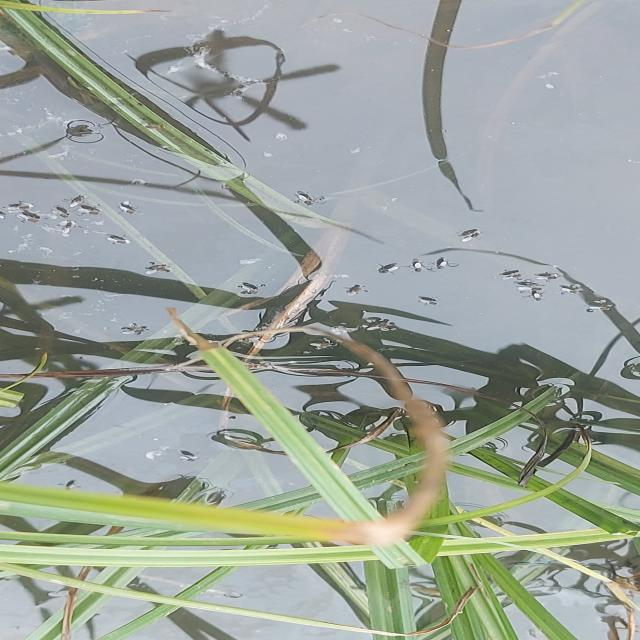Breeding Place: (2, 0, 640, 640)
Mosquito Swarm: (6, 176, 632, 364)
